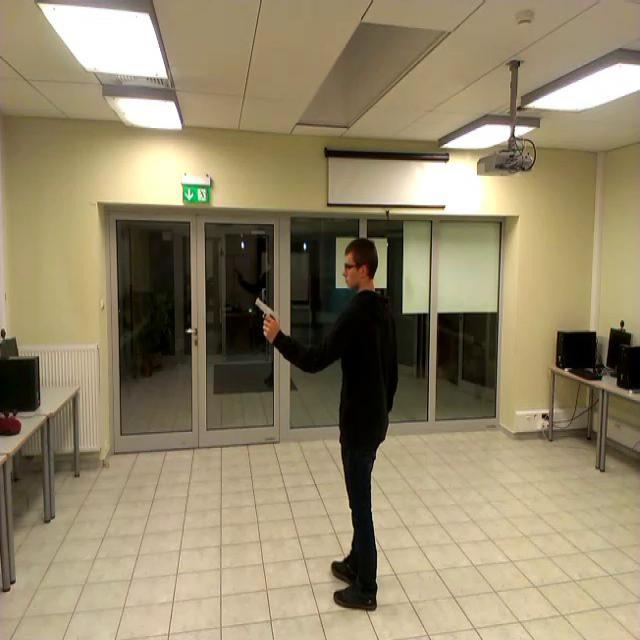weapon: (252, 297, 278, 342)
